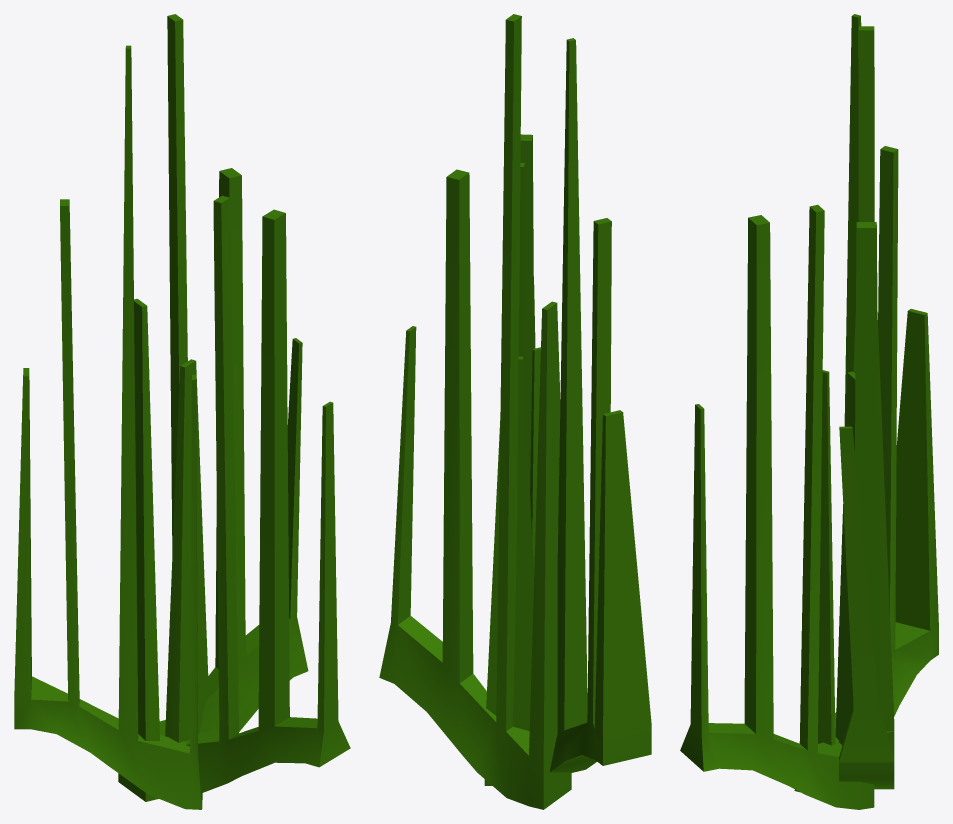
Rendered from SM_Seagrass_Short__Placeholder.fbx.
3 renders of one model, left to right at view 1: azimuth 30°, elevation 25°; view 2: azimuth 150°, elevation 25°; view 3: azimuth 270°, elevation 25°, orthographic.
Parts seen in each view (by area): view 1: SM_Seagrass1_Placeholder; view 2: SM_Seagrass1_Placeholder; view 3: SM_Seagrass1_Placeholder.
Part boxes in pixels (x1=…): SM_Seagrass1_Placeholder: x1=14, y1=14, x2=350, y2=809; SM_Seagrass1_Placeholder: x1=379, y1=14, x2=651, y2=809; SM_Seagrass1_Placeholder: x1=680, y1=14, x2=938, y2=809.
Size of the model in its own units: 87.21 by 237 by 72.58.
